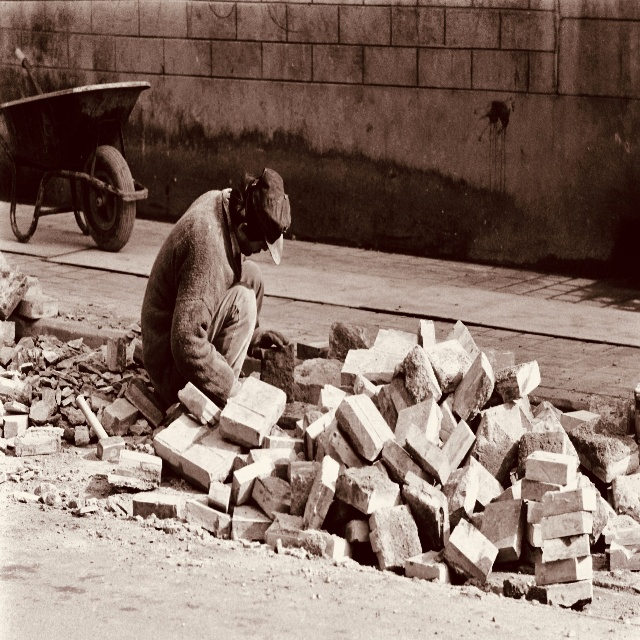Guantes: (247, 327, 289, 357)
